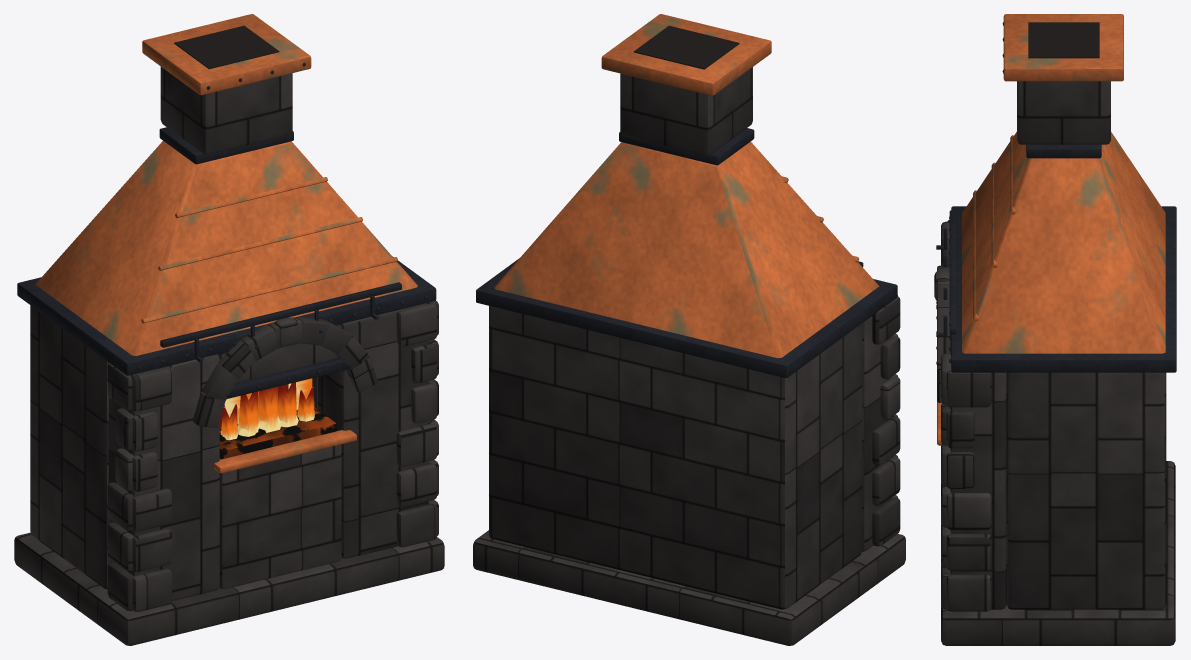
Rendered from furnace.glb.
3 views of the same model, side by side, from view 1: azimuth 30°, elevation 25°; view 2: azimuth 150°, elevation 25°; view 3: azimuth 270°, elevation 25° (orthographic).
Visible parts, largest first — view 1: Furnace_Body, Furnace_Fire; view 2: Furnace_Body; view 3: Furnace_Body.
Boxes of the visible parts, box(x1,y1,x2,y2) form: Furnace_Body: box(14, 14, 444, 645); Furnace_Fire: box(219, 378, 336, 459); Furnace_Body: box(473, 14, 905, 645); Furnace_Body: box(934, 14, 1176, 645).
Size of the model in its own units: 2 by 3.11 by 1.29.
6 materials, 5 textured.
